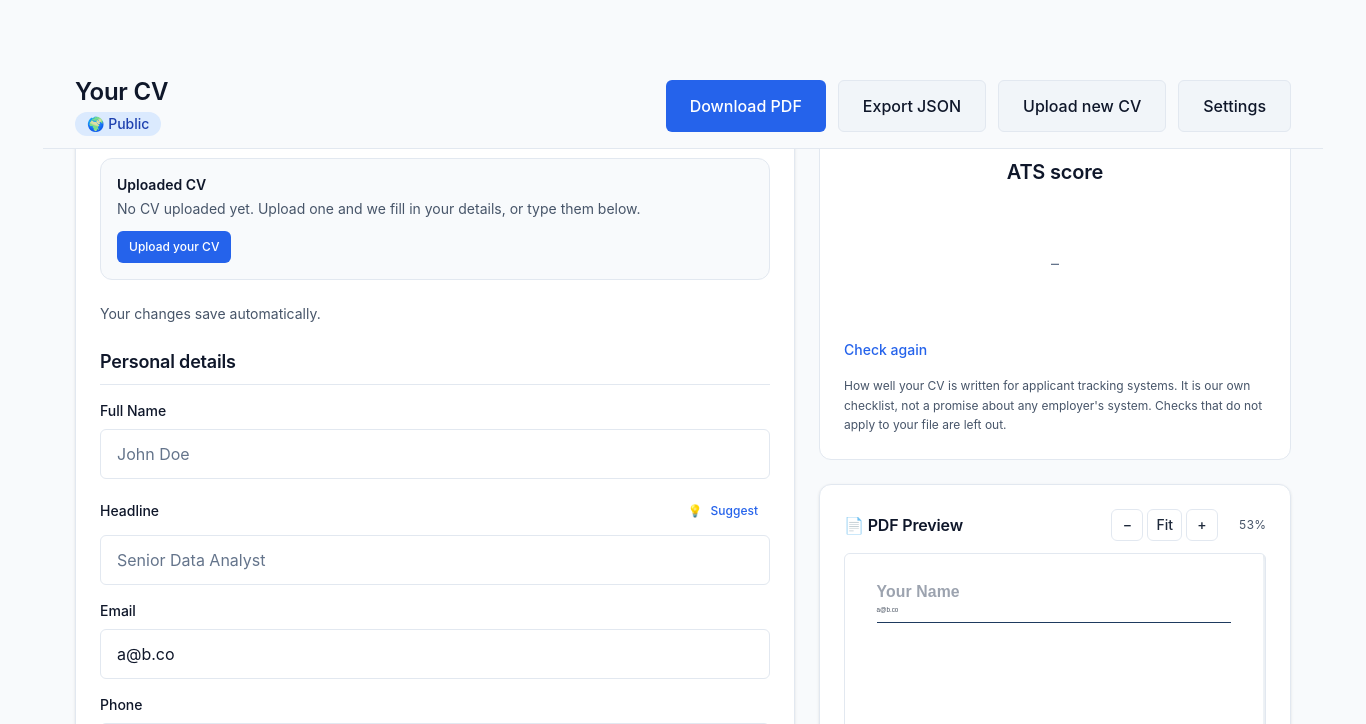
Test: CanvasPage saving › saves about two seconds after the user stops typing and says so
This screenshot has width=1366, height=724.
Type "Jane" into the field labelled "Full Name" at (435,454), box [100, 429, 770, 479]
Wait 8000 ms
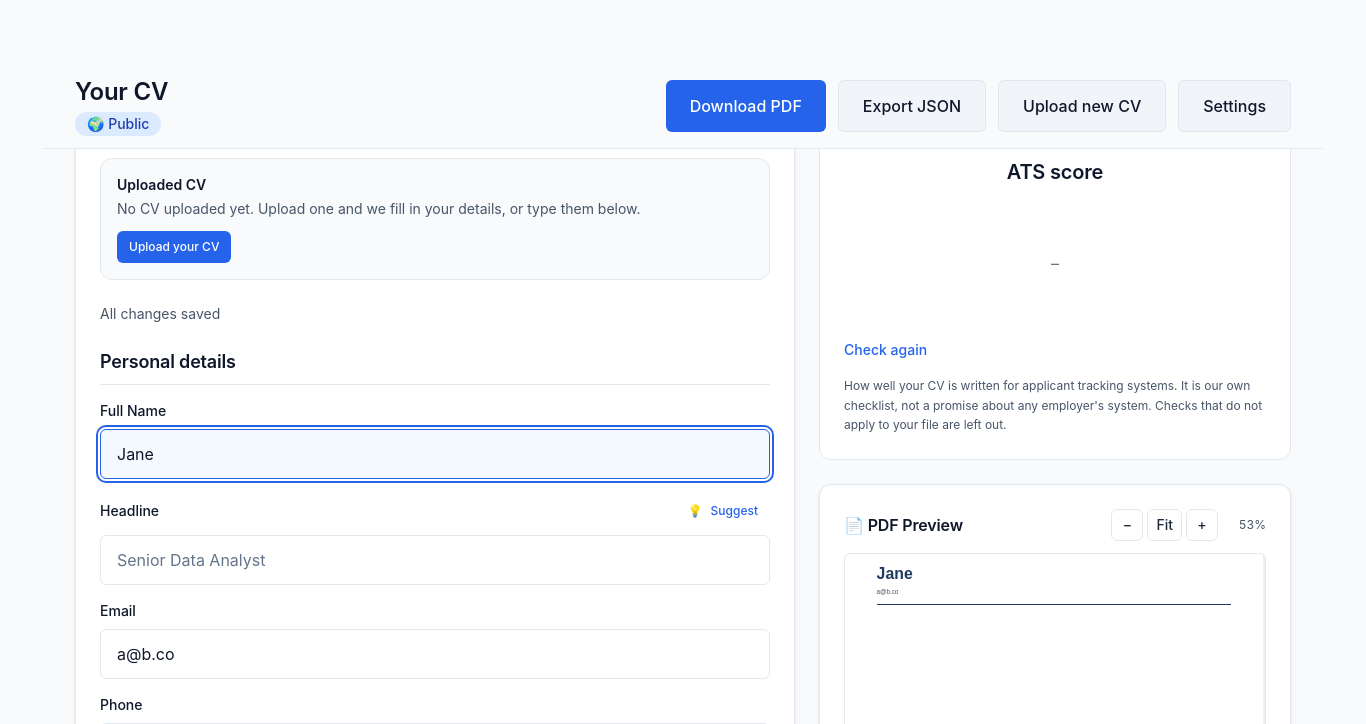
expect the text "All changes saved" is shown: met, box [100, 305, 220, 322]
